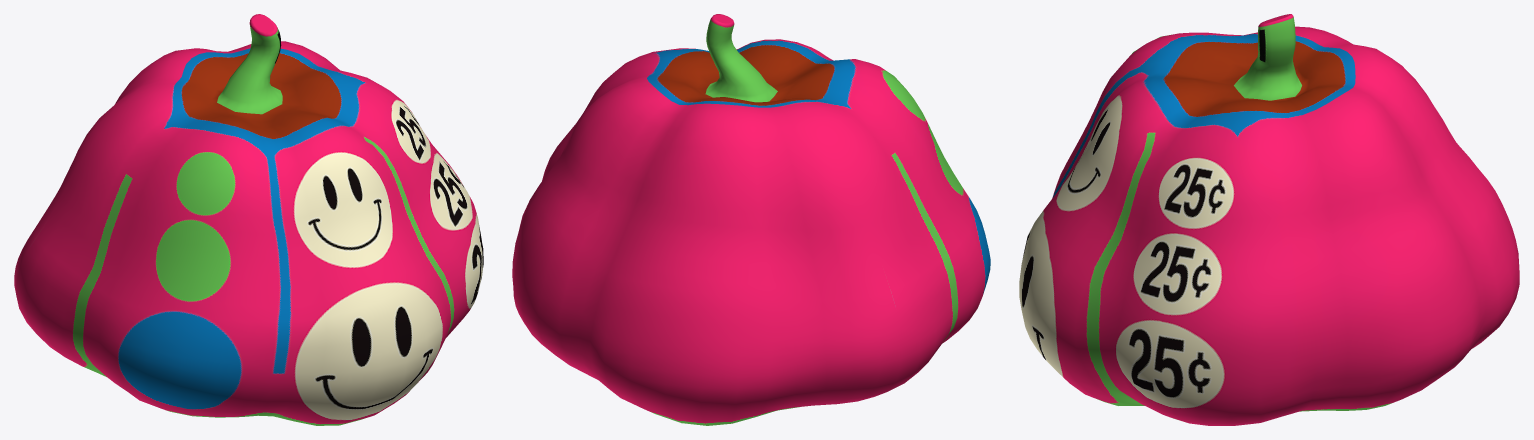
The model's file is 275C_LinearSpin.fbx.
The picture shows the model from 3 angles, left to right: view 1: azimuth 30°, elevation 25°; view 2: azimuth 150°, elevation 25°; view 3: azimuth 270°, elevation 25°; orthographic projection. The views are drawn at different scales.
Parts seen in each view (by area): view 1: Pumpkin275C_04_LinearSpin; view 2: Pumpkin275C_04_LinearSpin; view 3: Pumpkin275C_04_LinearSpin.
Part boxes in pixels (x1,y1,x2,y2): Pumpkin275C_04_LinearSpin: (14,14,483,425); Pumpkin275C_04_LinearSpin: (512,14,990,425); Pumpkin275C_04_LinearSpin: (1019,14,1519,425).
Bounding box in the file's own units: 23.81 × 19.87 × 23.97.
Materials: 1 (1 with a texture image).
